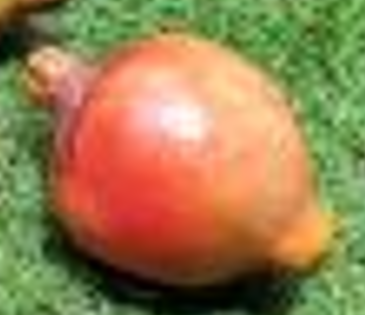pomegranate_A: (20, 31, 345, 288)
